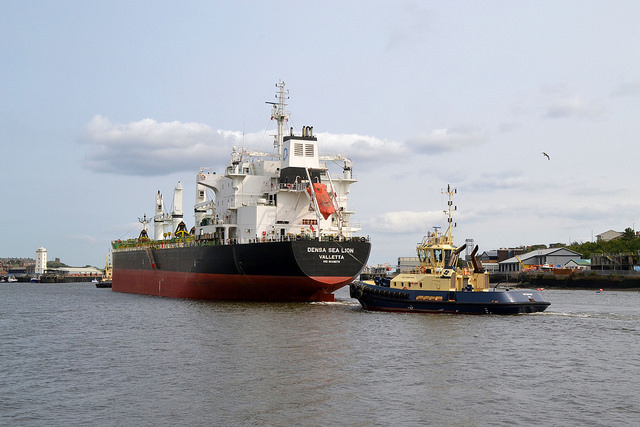bulk carrier: (111, 77, 366, 306)
tug_boat: (357, 178, 554, 318)
